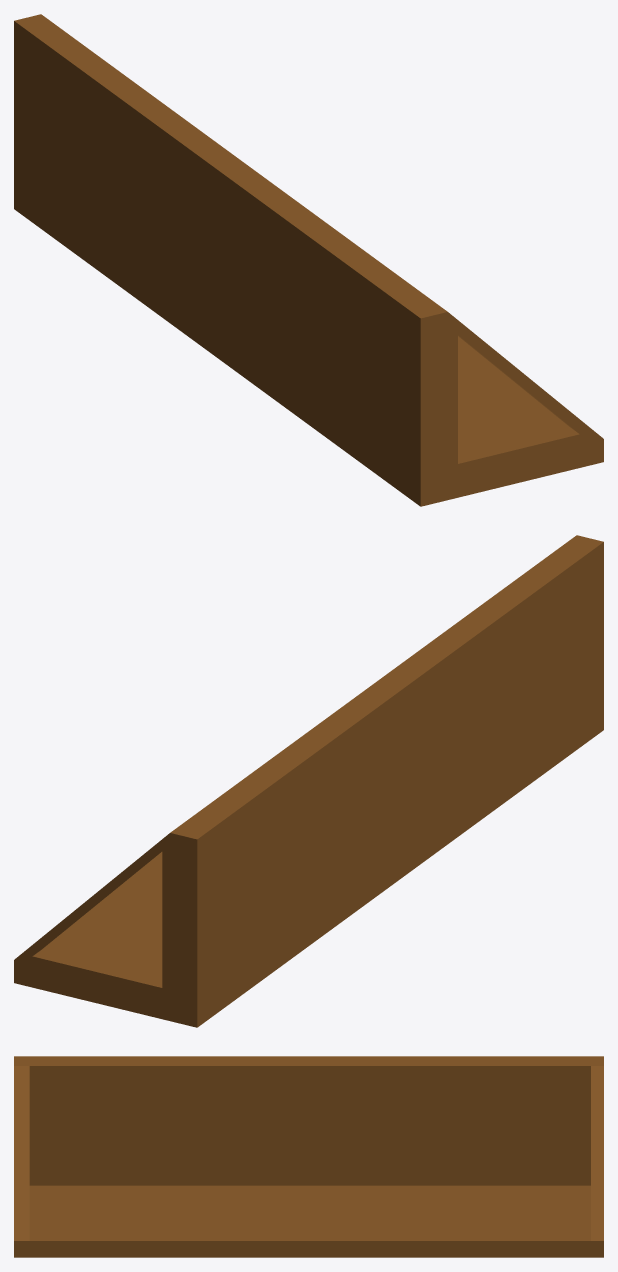
Rendered from uppershelf.fbx.
The picture shows the model from 3 angles, top to bottom: view 1: azimuth 30°, elevation 25°; view 2: azimuth 150°, elevation 25°; view 3: azimuth 270°, elevation 25°; orthographic projection. The views are drawn at different scales.
Visible parts, largest first — view 1: Cube.052; view 2: Cube.052; view 3: Cube.052.
Boxes of the visible parts, x1,y1,x2,y2 form: Cube.052: [14, 14, 603, 506]; Cube.052: [14, 535, 603, 1027]; Cube.052: [14, 1056, 603, 1257].
Size of the model in its own units: 545 by 535 by 2094.
